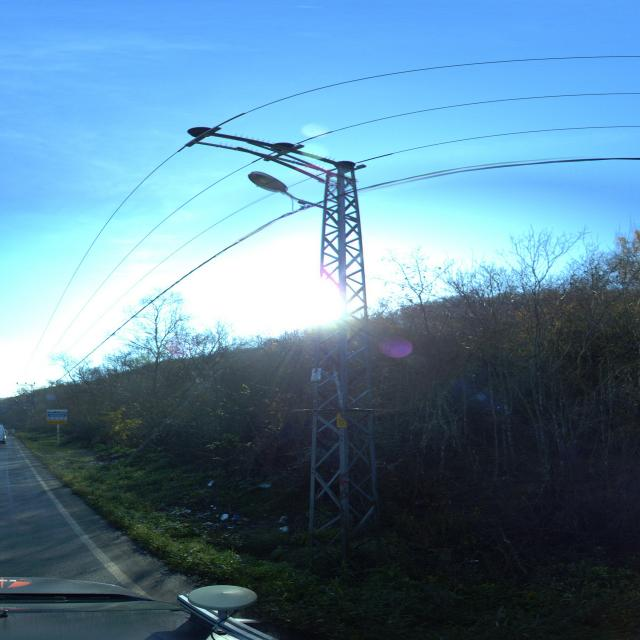Utility Pole Information Plate: (310, 367, 321, 381), (337, 414, 347, 428)
